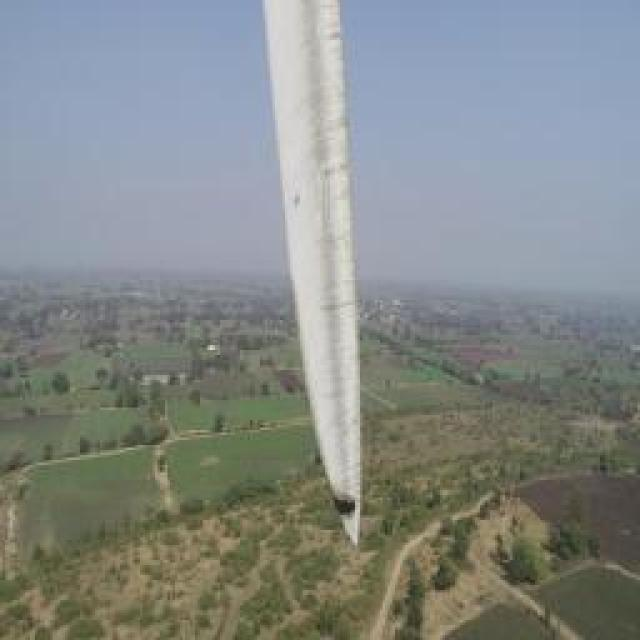Dirt: (261, 0, 369, 543)
Oil LEAKAGE: (335, 498, 359, 517)
Pin Hole: (291, 190, 304, 210)
